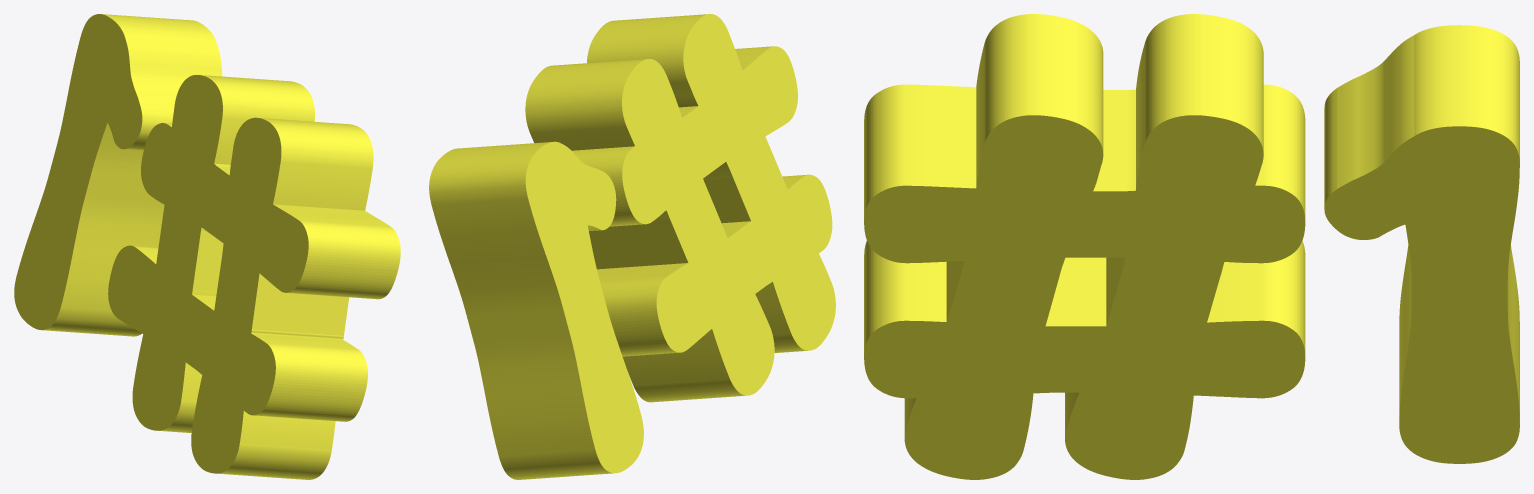
File: Backpack.fbx
3 renders of one model, left to right at view 1: azimuth 30°, elevation 25°; view 2: azimuth 150°, elevation 25°; view 3: azimuth 270°, elevation 25°, orthographic. The views are drawn at different scales.
Parts seen in each view (by area): view 1: Text; view 2: Text; view 3: Text.
Boxes of the visible parts, x1,y1,x2,y2 form: Text: (14, 14, 400, 479); Text: (429, 14, 835, 479); Text: (864, 14, 1519, 479).
Bounding box in the file's own units: 66.23 × 118 × 152.
